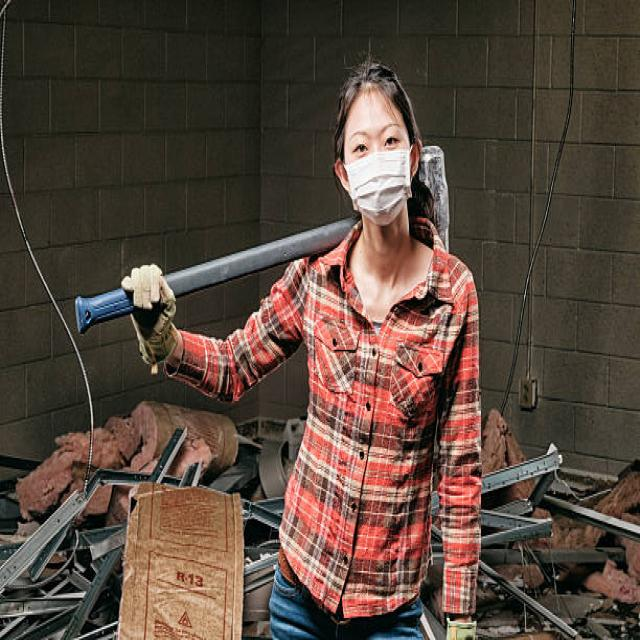gloves: (120, 267, 179, 373), (445, 619, 474, 640)
